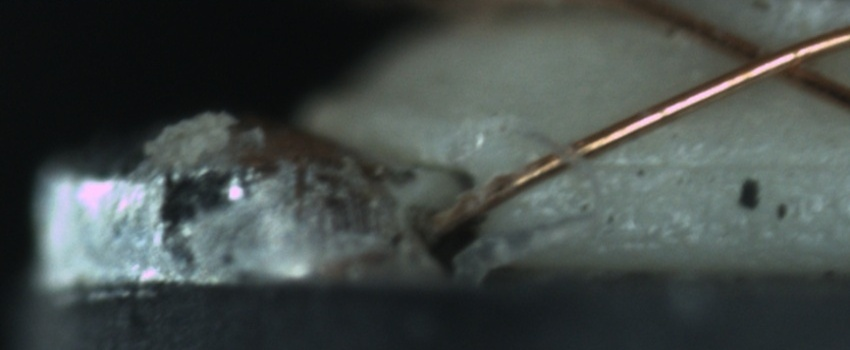CL: (705, 26, 835, 91)
DL: (573, 131, 841, 196)
